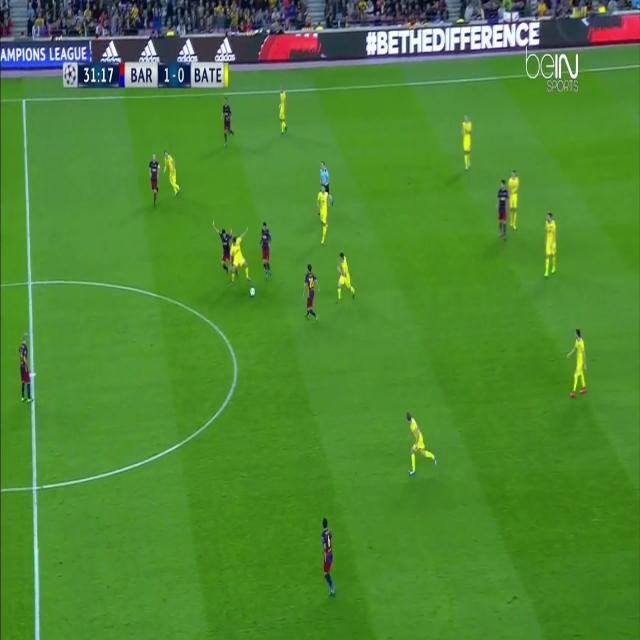Ball: (246, 284, 259, 302)
Player: (405, 407, 438, 480), (318, 516, 339, 605), (566, 324, 588, 402), (300, 260, 323, 326), (333, 248, 357, 310), (228, 223, 251, 287), (541, 208, 559, 286), (16, 330, 34, 406), (209, 219, 231, 278), (495, 177, 512, 244), (256, 219, 274, 281), (161, 147, 182, 200), (315, 182, 331, 247), (506, 164, 521, 233), (218, 94, 236, 150), (146, 153, 162, 213), (460, 113, 475, 177), (276, 86, 291, 143)
Referee: (318, 158, 332, 200)
